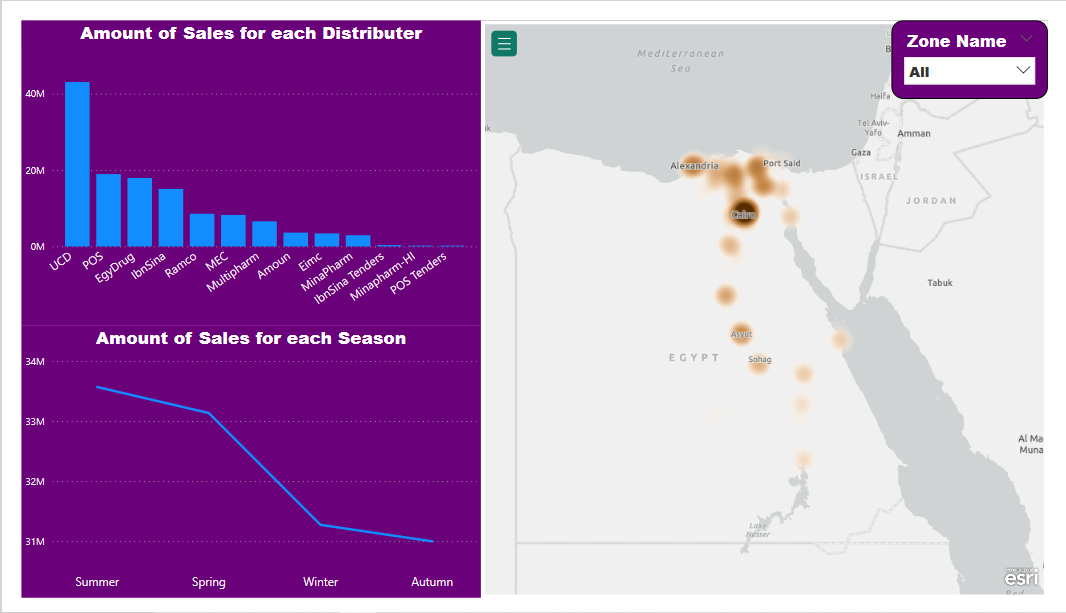

The dashboard page shown, as its layout file describes it:
{"tool":"powerbi","page":{"name":"dashboard","canvas":[1280,720],"ordinal":0},"visuals":[{"type":"columnChart","title":"Amount of Sales for each Distributer","fields":{"Y":["Sum(Pharma.Sales Amount)"],"Category":["Pharma.DistributerName"]},"box":[0,0,573.2,381.2],"z":0},{"type":"lineChart","title":"Amount of Sales for each Season","fields":{"Y":["Sum(Pharma.Sales Amount)"],"Category":["Pharma.SDate - Copy"]},"box":[0,380.6,572.6,340.2],"z":1000},{"type":"esriVisual","fields":{"Location":["Pharma.ZoneName"],"Size":["Sum(Pharma.Sales Amount)"]},"box":[572.6,0,707.4,720.8],"z":2000},{"type":"slicer","fields":{"Values":["Pharma.ZoneName"]},"box":[1084.6,0,195.4,97.7],"z":3000}]}

Visuals, with their boxes in screenshot pixels (x1, y1, x2, y2), scaled from the page's 1280x720 canvas onto the 1066x613 screenshot:
"Amount of Sales for each Distributer" columnChart: x1=0, y1=0, x2=477, y2=325
"Amount of Sales for each Season" lineChart: x1=0, y1=324, x2=477, y2=612
esriVisual - Pharma.ZoneName x Sum(Pharma.Sales Amount): x1=477, y1=0, x2=1065, y2=612
slicer - Pharma.ZoneName: x1=903, y1=0, x2=1065, y2=83
